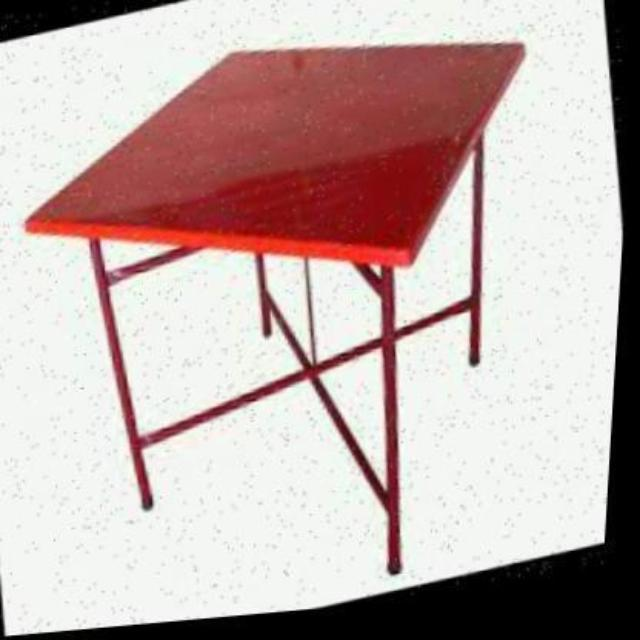table: (20, 55, 528, 573)
